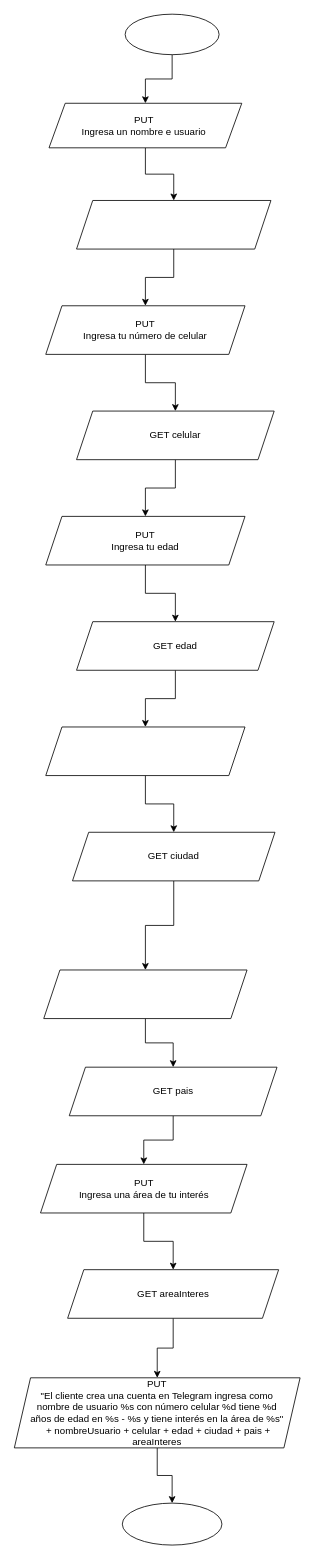
Some shapes in this 314 by 1559 pixel diagram are drawn without their labels. The box of each missing label's shape, as (x1, y1, x2, y2) in pixels:
Fin: (122, 1502, 222, 1545)
GET nombreUsuario: (76, 200, 271, 249)
Inicio: (124, 13, 219, 55)
PUT Ingresa el país que se encuentra la ciudad: (43, 969, 247, 1019)
PUT Ingresa la ciudad en la que resides: (45, 726, 245, 776)
